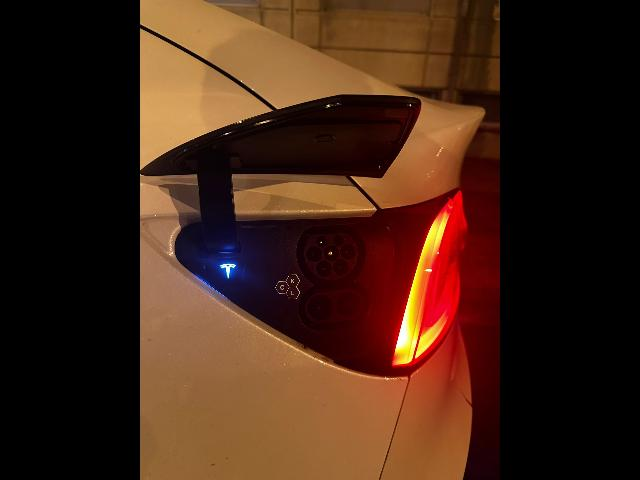inlet: (304, 233, 357, 280)
inlet-above-left: (316, 236, 327, 247)
inlet-above-right: (333, 235, 344, 246)
inlet-below-left: (316, 260, 332, 277)
inlet-below-right: (333, 259, 348, 275)
inlet-circle: (323, 245, 339, 261)
inlet-circle-left: (306, 246, 322, 263)
inlet-circle-right: (340, 244, 356, 260)
inlet-minus: (337, 293, 361, 317)
inlet-plus: (308, 295, 333, 321)
